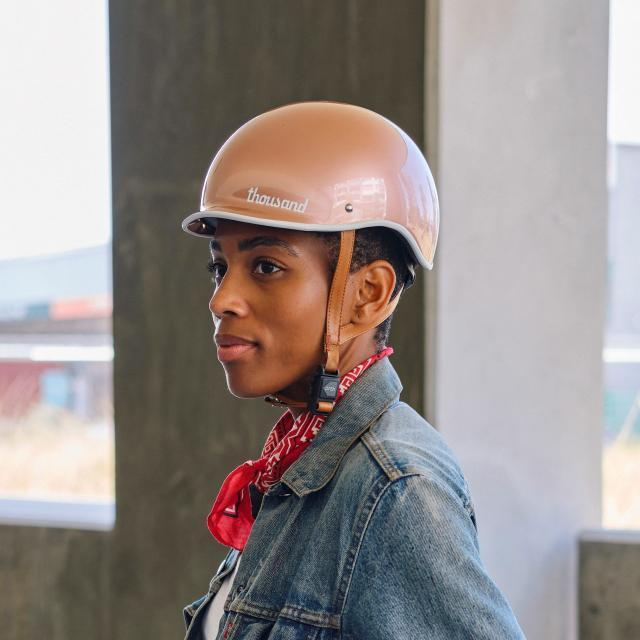helmet: (184, 98, 442, 420)
